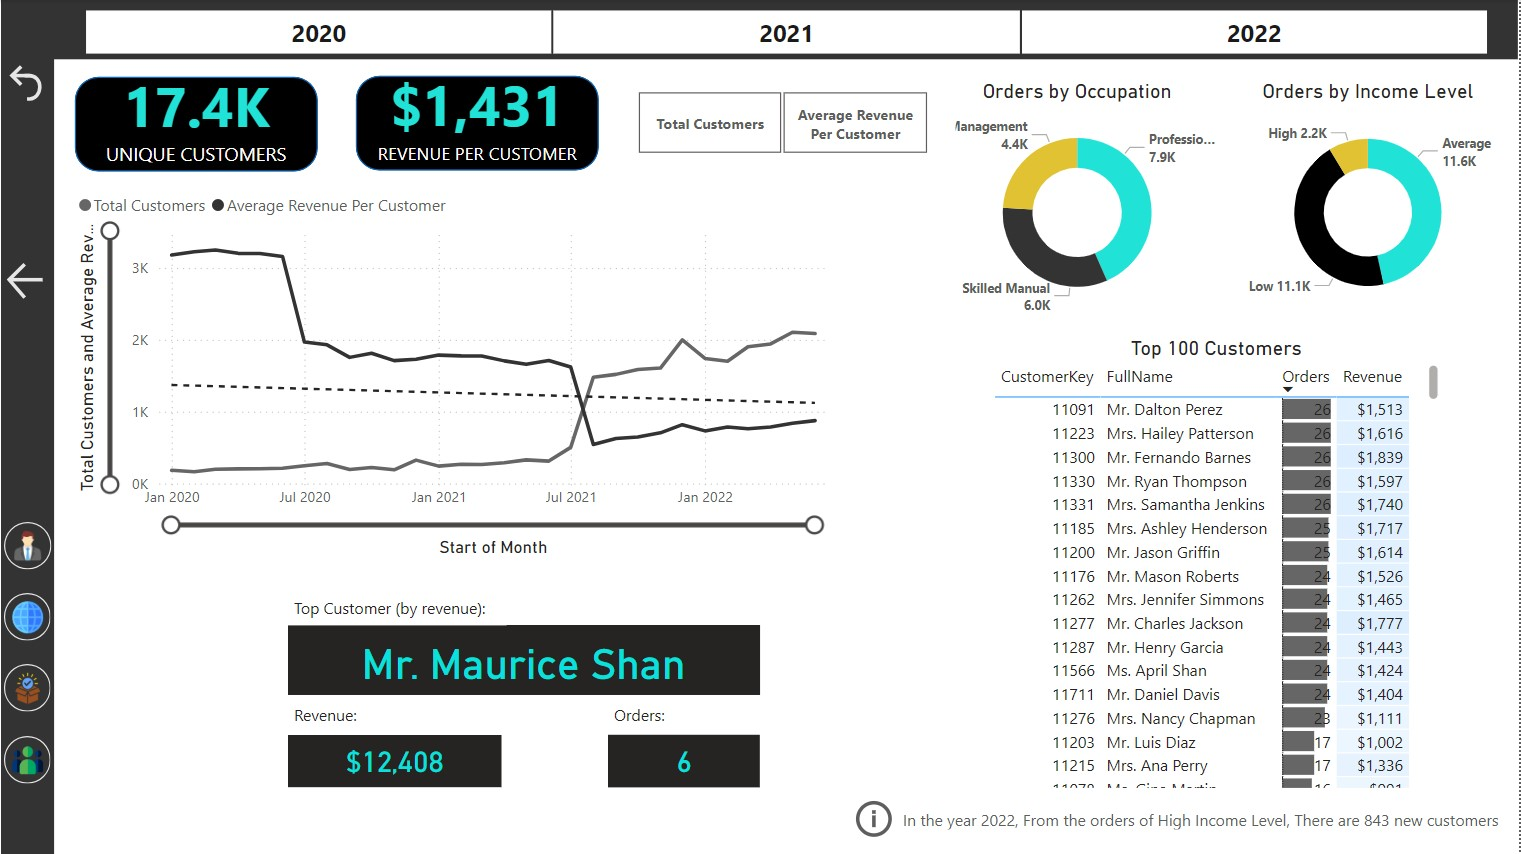

The page's visual inventory and layout, read from the dashboard file:
{"tool":"powerbi","page":{"name":"Customer Details","canvas":[1280,720],"ordinal":3},"visuals":[{"type":"group","id":"g1","title":"KPI","box":[52.8,52.8,462.1,100.3],"z":0},{"type":"group","id":"g2","title":"KPI Cards","box":[52.8,53.4,462,100.7],"z":0,"group":"g1"},{"type":"card","fields":{"Values":["Measures Collection.Total Customers"]},"box":[68.7,54,192.8,88.3],"z":0,"group":"g3"},{"type":"shape","box":[52.8,54.3,224.8,99.8],"z":0,"group":"g2"},{"type":"group","id":"g3","title":"KPI Values","box":[68.7,52.8,429.8,89.4],"z":1000,"group":"g1"},{"type":"card","fields":{"Values":["Calendar.Revenue Per Customer"]},"box":[305.7,52.8,192.8,88.3],"z":1000,"group":"g3"},{"type":"shape","box":[290,53.4,224.8,99.8],"z":1000,"group":"g2"},{"type":"donutChart","title":"Orders by Income Level","fields":{"Y":["Measures Collection.Total Orders"],"Category":["Customer Lookup.Income Level"]},"box":[1039.7,66.3,227.5,206],"z":1000},{"type":"actionButton","box":[4,440,40,40],"z":1000,"group":"g4"},{"type":"donutChart","title":"Orders by Occupation","fields":{"Category":["Customer Lookup.Occupation"],"Y":["Measures Collection.Total Orders"]},"box":[790.7,66.3,234.6,206],"z":2000},{"type":"actionButton","box":[3.6,500,39.4,40.3],"z":2000,"group":"g4"},{"type":"lineChart","title":"Total Customers by Month","fields":{"Y":["Measures Collection.Total Customers","Measures Collection.Revenue Per Customer"],"Category":["Calendar Lookup.Start Heirarchy.Start of Year","Calendar Lookup.Start Heirarchy.Start of Quarter","Calendar Lookup.Start Heirarchy.Start of Month","Calendar Lookup.Start Heirarchy.Start of Week","Calendar Lookup.Start Heirarchy.Start of Day"]},"box":[60.9,152.2,655.5,322.4],"z":3000},{"type":"actionButton","box":[3.6,560,39.4,40.3],"z":3000,"group":"g4"},{"type":"card","fields":{"Values":["Measures Collection.Total Orders (Customer Details)"]},"box":[512.2,618.8,128.1,44.8],"z":4000},{"type":"actionButton","box":[3.6,620,39.4,40.3],"z":4000,"group":"g4"},{"type":"card","fields":{"Values":["Calendar Lookup.FullName (Customer Details)"]},"box":[242.7,526.6,397.6,59.1],"z":5000},{"type":"card","fields":{"Values":["Measures Collection.Total Revenue (Customer Details)"]},"box":[242.7,619.7,180,43.9],"z":6000},{"type":"tableEx","title":"Top 100 Customers","fields":{"Values":["Customer Lookup.CustomerKey","Customer Lookup.FullName","Measures Collection.Total Orders","Measures Collection.Total Revenue"]},"box":[832.8,283,385.1,386],"z":7000},{"type":"slicer","fields":{"Values":["Calendar Lookup.Dates.Variation.Date Hierarchy.Year"]},"box":[44.8,0,1234.9,50.1],"z":8000},{"type":"actionButton","box":[716.4,669.9,550.7,40.3],"z":9000},{"type":"shape","title":"Left Navbar","box":[0.9,0,44.8,720],"z":10000},{"type":"actionButton","box":[1.8,50.1,43.9,40.3],"z":11000},{"type":"slicer","fields":{"Values":["Customer Metric Selection.Customer Metric Selection"]},"box":[512.2,70.7,292.8,65.4],"z":12000},{"type":"group","id":"g4","title":"Navigation Option","box":[3.6,440,40.4,220.3],"z":13000},{"type":"actionButton","box":[1.8,216.7,44.8,40.3],"z":14000},{"type":"textbox","box":[512.2,588.4,128.1,31.3],"z":15000},{"type":"textbox","box":[242.7,497.9,183.6,28.7],"z":16000},{"type":"textbox","box":[242.7,588.4,160.3,31.3],"z":17000}]}

Visuals, with their boxes on the page's 1280x720 design canvas (x1, y1, x2, y2). These are canvas units, not pixel positions in the 1521x854 screenshot, which may show the page scaled, cropped or inside an application window:
"KPI" group: region(53, 53, 515, 153)
"KPI Cards" group: region(53, 53, 515, 154)
card - Measures Collection.Total Customers: region(69, 54, 262, 142)
shape: region(53, 54, 278, 154)
"KPI Values" group: region(69, 53, 498, 142)
card - Calendar.Revenue Per Customer: region(306, 53, 498, 141)
shape: region(290, 53, 515, 153)
"Orders by Income Level" donutChart: region(1040, 66, 1267, 272)
actionButton: region(4, 440, 44, 480)
"Orders by Occupation" donutChart: region(791, 66, 1025, 272)
actionButton: region(4, 500, 43, 540)
"Total Customers by Month" lineChart: region(61, 152, 716, 475)
actionButton: region(4, 560, 43, 600)
card - Measures Collection.Total Orders (Customer Details): region(512, 619, 640, 664)
actionButton: region(4, 620, 43, 660)
card - Calendar Lookup.FullName (Customer Details): region(243, 527, 640, 586)
card - Measures Collection.Total Revenue (Customer Details): region(243, 620, 423, 664)
"Top 100 Customers" tableEx: region(833, 283, 1218, 669)
slicer - Calendar Lookup.Dates.Variation.Date Hierarchy.Year: region(45, 0, 1280, 50)
actionButton: region(716, 670, 1267, 710)
"Left Navbar" shape: region(1, 0, 46, 720)
actionButton: region(2, 50, 46, 90)
slicer - Customer Metric Selection.Customer Metric Selection: region(512, 71, 805, 136)
"Navigation Option" group: region(4, 440, 44, 660)
actionButton: region(2, 217, 47, 257)
textbox: region(512, 588, 640, 620)
textbox: region(243, 498, 426, 527)
textbox: region(243, 588, 403, 620)
